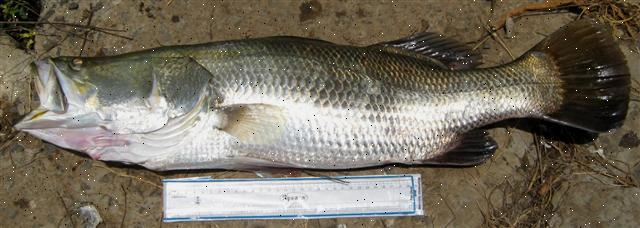Mulut: (2, 45, 102, 170)
Sirip Anal: (392, 112, 508, 172)
Sirip Dada: (184, 84, 304, 152)
Sirip Ekor: (514, 11, 638, 147)
Sirip Perut: (220, 148, 316, 184)
Sirip Punggung: (353, 26, 493, 84)
